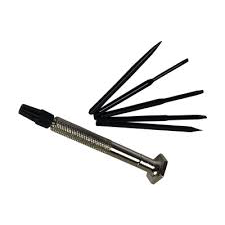Screwdriver: (13, 92, 179, 189)
